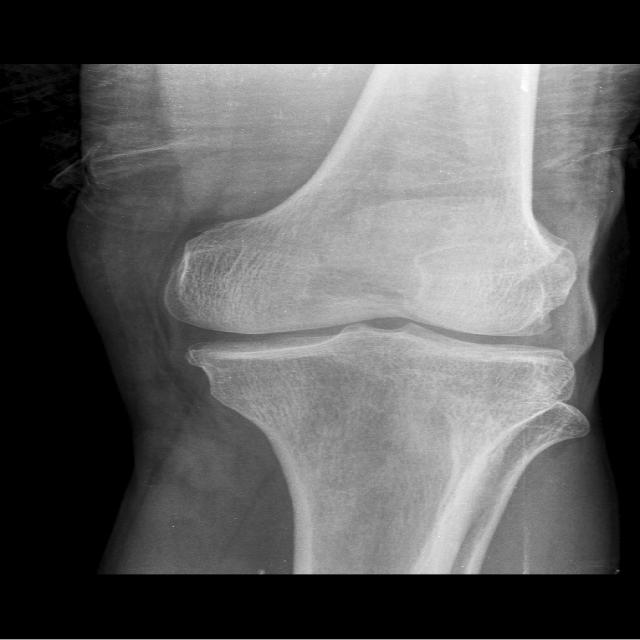osteo: (152, 213, 588, 392)
